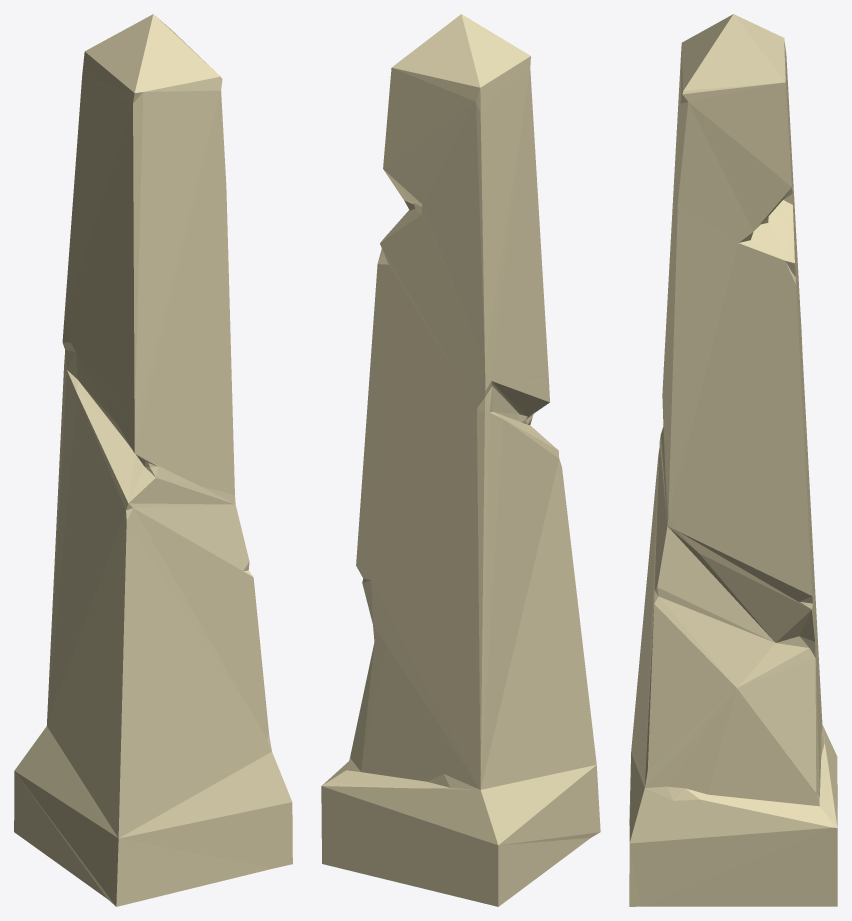
File: monolith_01.fbx
3 renders of one model, left to right at view 1: azimuth 30°, elevation 25°; view 2: azimuth 150°, elevation 25°; view 3: azimuth 270°, elevation 25°, orthographic.
Parts seen in each view (by area): view 1: monolith_01; view 2: monolith_01; view 3: monolith_01.
Boxes of the visible parts, <box> form: monolith_01: <box>14,14,292,906</box>; monolith_01: <box>321,14,600,906</box>; monolith_01: <box>629,14,837,906</box>.
Bounding box in the file's own units: 400 × 1800 × 400.
